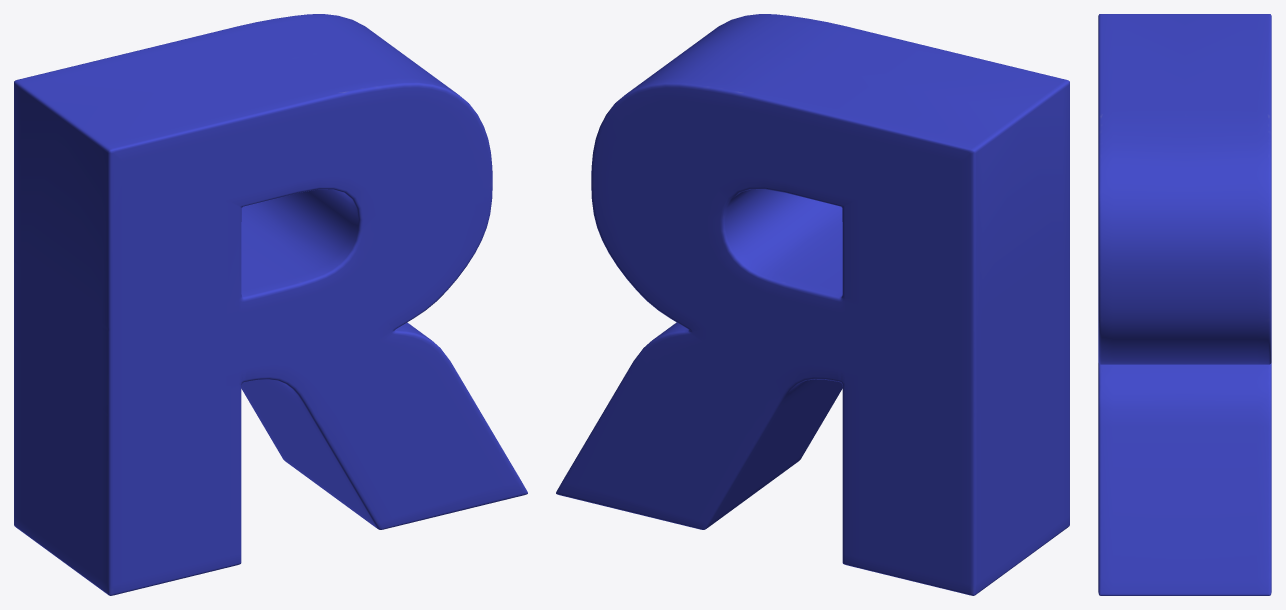
Rendered from modelR.glb.
3 views of the same model, side by side, from view 1: azimuth 30°, elevation 25°; view 2: azimuth 150°, elevation 25°; view 3: azimuth 270°, elevation 25° (orthographic). The views are drawn at different scales.
Visible parts, largest first — view 1: node_id128_1; view 2: node_id128_1; view 3: node_id128_1.
Part boxes in pixels (x1=…): node_id128_1: x1=14, y1=14, x2=527, y2=595; node_id128_1: x1=556, y1=14, x2=1069, y2=595; node_id128_1: x1=1098, y1=14, x2=1271, y2=595.
Bounding box in the file's own units: 0.5032 × 0.512 × 0.201.
Materials: 1 (1 with a texture image).
